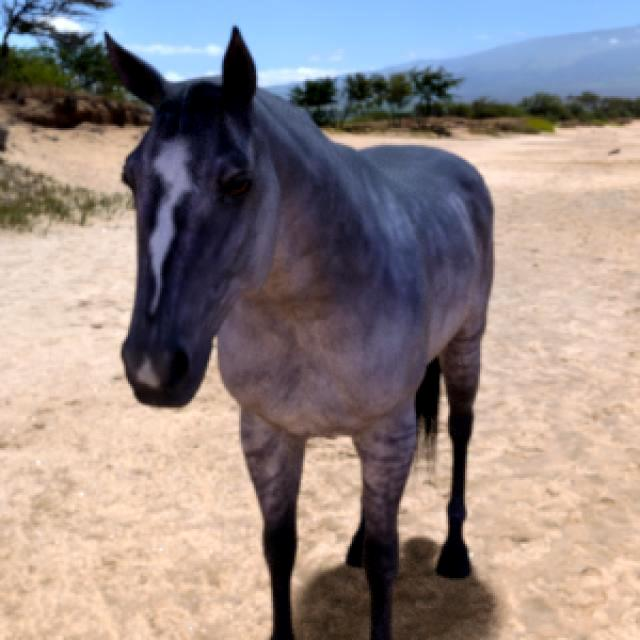horse: (107, 28, 492, 640)
